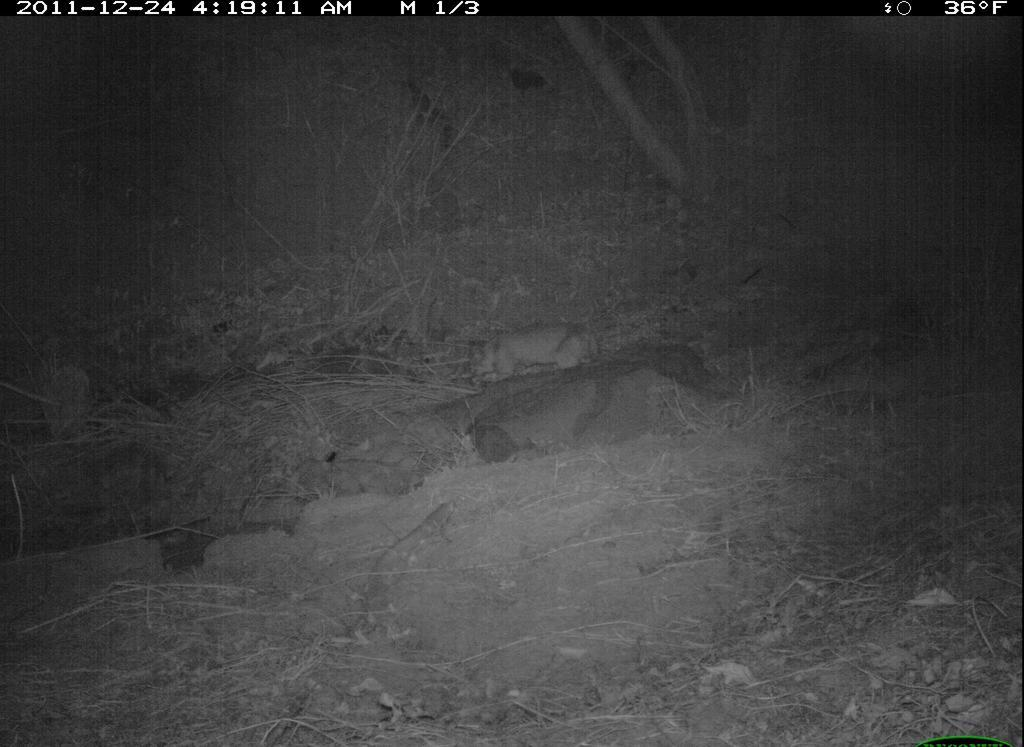bobcat: (456, 319, 605, 386)
